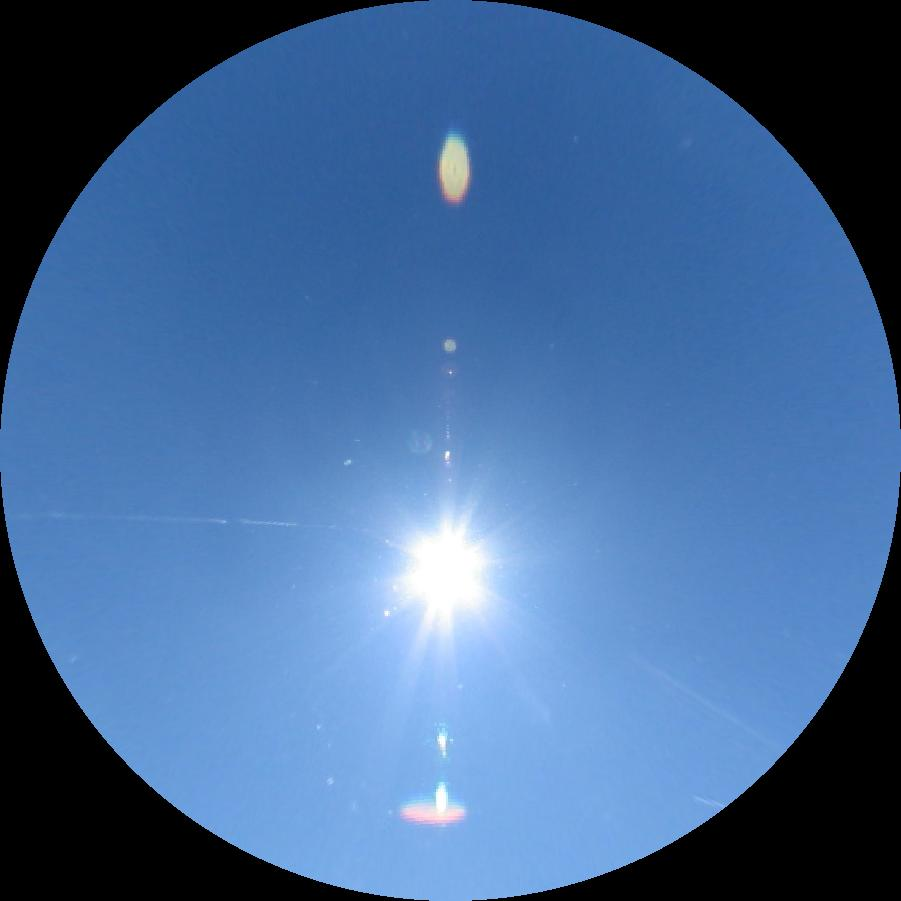contrail young: (693, 796, 727, 810)
parasite: (651, 669, 786, 753), (8, 511, 368, 532)
sun: (401, 525, 483, 608)
